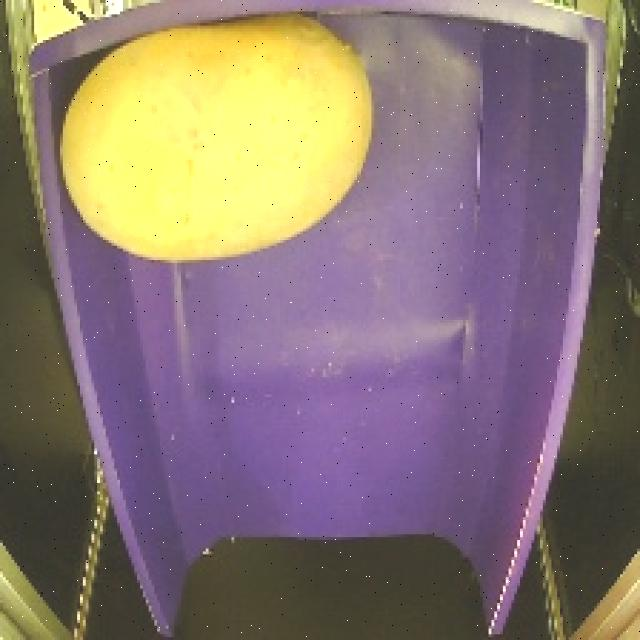full_potato: (44, 9, 380, 275)
